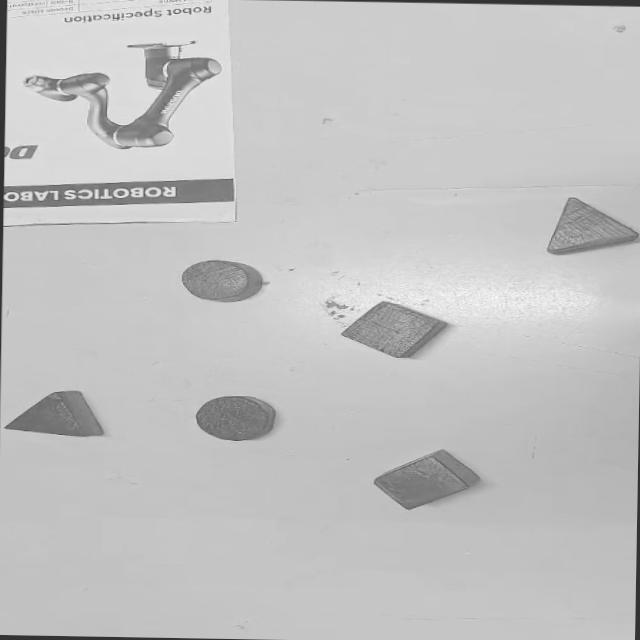bcircle: (192, 394, 276, 442)
bcube: (339, 299, 450, 360)
btriangle: (2, 389, 107, 438)
rcircle: (179, 258, 258, 302)
rcube: (368, 447, 478, 511)
rtriangle: (545, 196, 639, 256)
